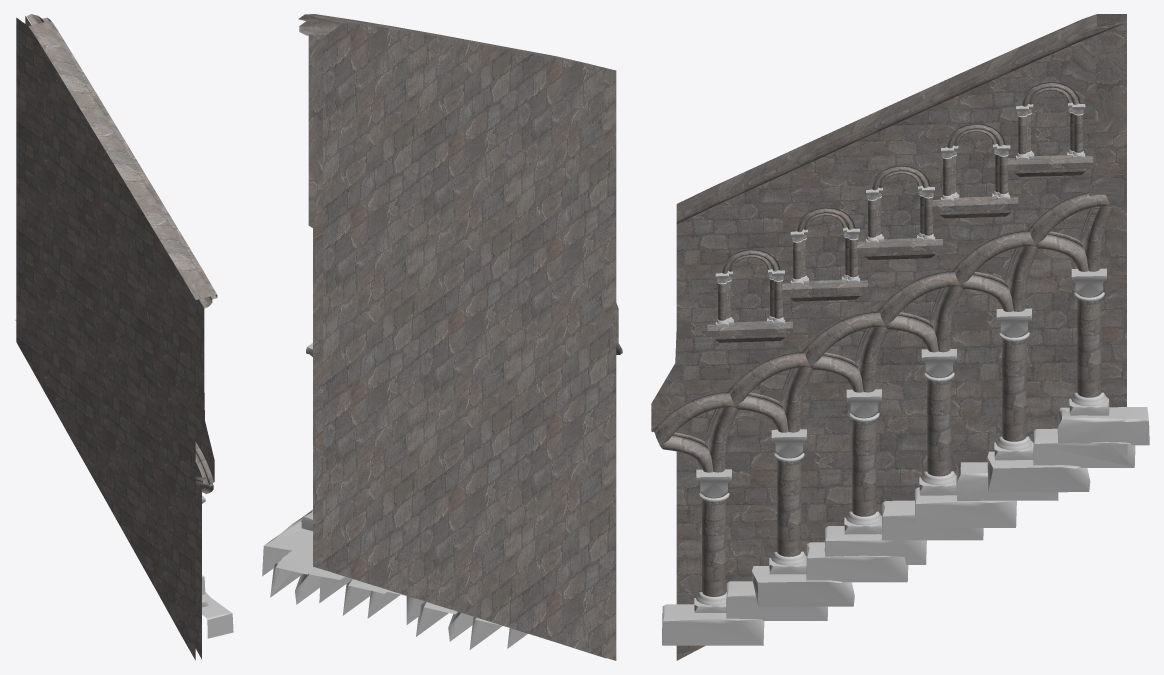
3 views of the same model, side by side, from view 1: azimuth 30°, elevation 25°; view 2: azimuth 150°, elevation 25°; view 3: azimuth 270°, elevation 25° (orthographic). The views are drawn at different scales.
Visible parts, largest first — view 1: SM_DungeonStairwayWall_LOD0; view 2: SM_DungeonStairwayWall_LOD0; view 3: SM_DungeonStairwayWall_LOD0.
Part boxes in pixels (x1,y1,x2,y2): SM_DungeonStairwayWall_LOD0: (15, 14, 233, 660); SM_DungeonStairwayWall_LOD0: (262, 14, 622, 660); SM_DungeonStairwayWall_LOD0: (651, 14, 1149, 660).
Size of the model in its own units: 0.6279 by 9.46 by 6.64.
